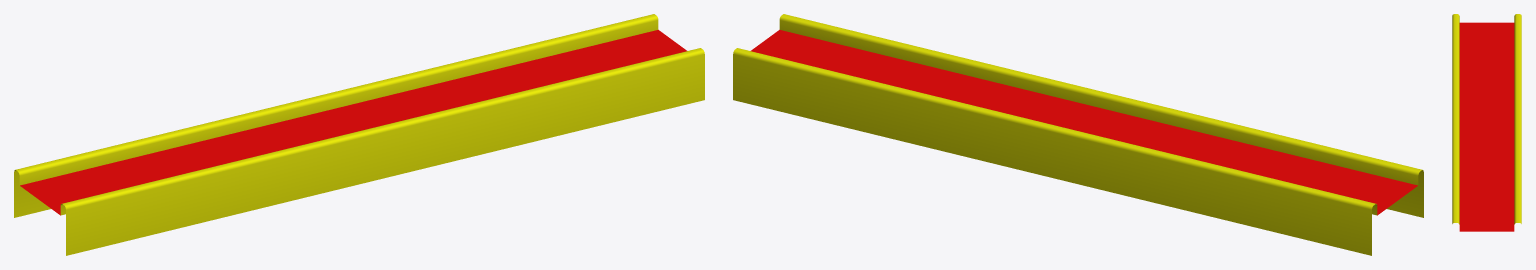
Rendered from ttttt22.fbx.
3 views of the same model, side by side, from view 1: azimuth 30°, elevation 25°; view 2: azimuth 150°, elevation 25°; view 3: azimuth 270°, elevation 25° (orthographic). The views are drawn at different scales.
Visible parts, largest first — view 1: Model_BoardItem_Conveyor_Straight_Half_004; view 2: Model_BoardItem_Conveyor_Straight_Half_004; view 3: Model_BoardItem_Conveyor_Straight_Half_004.
Part boxes in pixels (<box>): Model_BoardItem_Conveyor_Straight_Half_004: <box>14,14,704,255</box>; Model_BoardItem_Conveyor_Straight_Half_004: <box>733,14,1423,255</box>; Model_BoardItem_Conveyor_Straight_Half_004: <box>1452,14,1521,231</box>.
Size of the model in its own units: 301 by 22.17 by 42.32.
